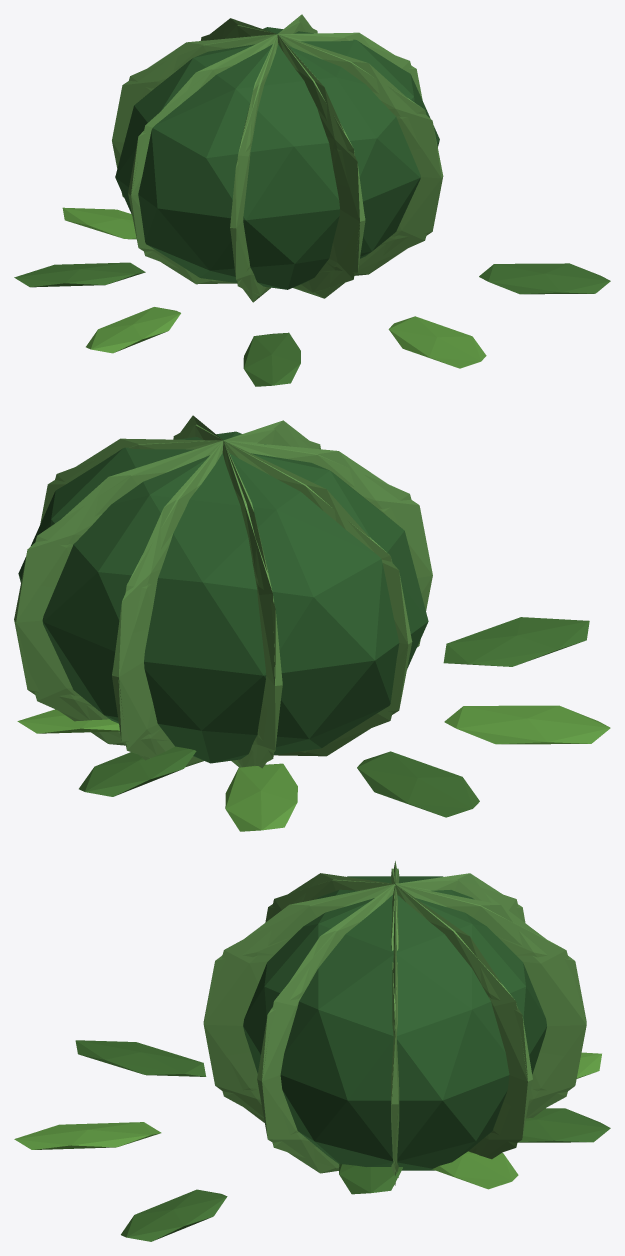
Rendered from ekin_karpuz.glb.
3 renders of one model, top to bottom at view 1: azimuth 30°, elevation 25°; view 2: azimuth 150°, elevation 25°; view 3: azimuth 270°, elevation 25°, orthographic. The views are drawn at different scales.
Parts seen in each view (by area): view 1: M_Cizgi; view 2: M_Cizgi; view 3: M_Cizgi.
Part boxes in pixels (x1,y1,x2,y2): M_Cizgi: [14, 14, 610, 386]; M_Cizgi: [14, 415, 610, 831]; M_Cizgi: [14, 861, 610, 1241].
Bounding box in the file's own units: 0.2488 × 0.128 × 0.2485.
